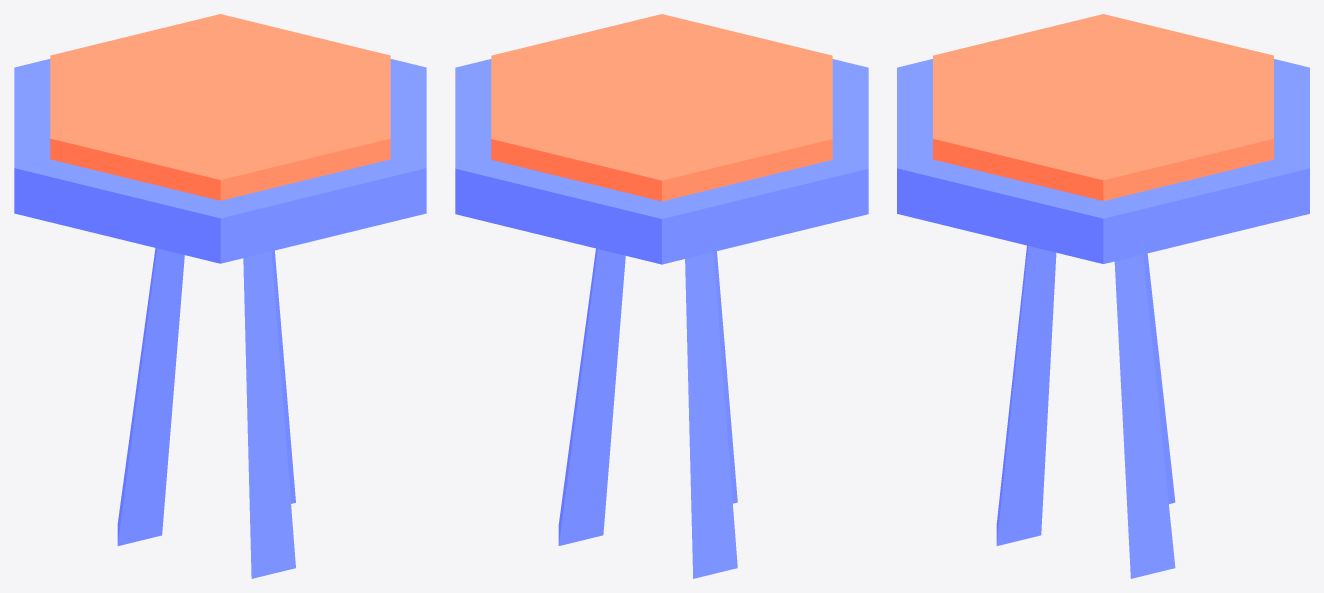
The model's file is SmallChair.fbx.
3 views of the same model, side by side, from view 1: azimuth 30°, elevation 25°; view 2: azimuth 150°, elevation 25°; view 3: azimuth 270°, elevation 25° (orthographic).
Parts seen in each view (by area): view 1: Cylinder_3; view 2: Cylinder_3; view 3: Cylinder_3.
Part boxes in pixels (<box>): Cylinder_3: <box>14,14,426,578</box>; Cylinder_3: <box>455,14,868,578</box>; Cylinder_3: <box>897,14,1309,578</box>.
Bounding box in the file's own units: 100 × 101 × 86.6.
